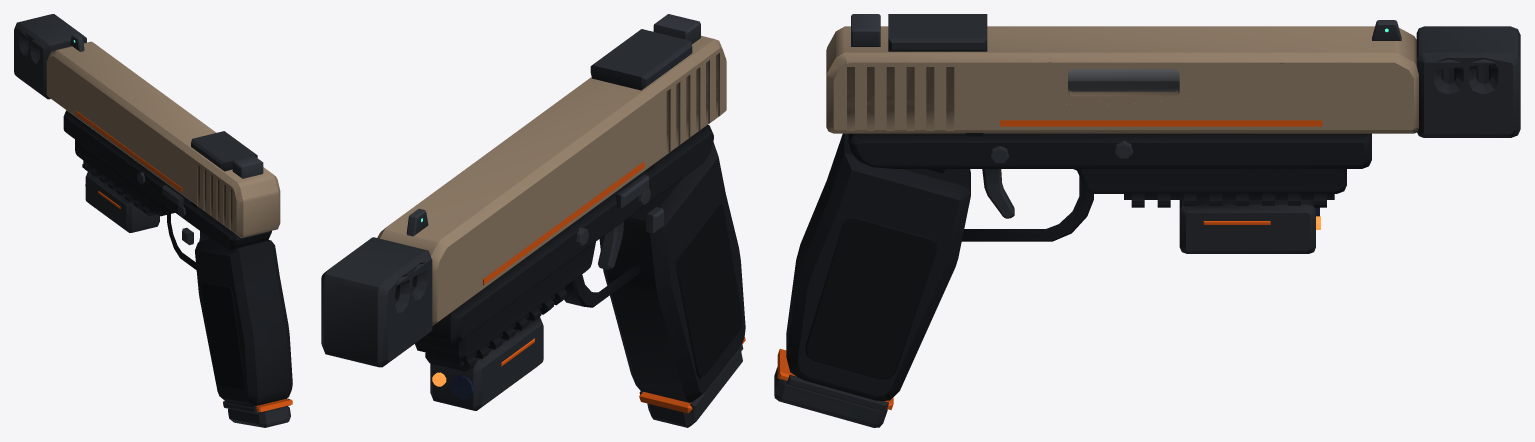
File: talon-9.glb
3 renders of one model, left to right at view 1: azimuth 30°, elevation 25°; view 2: azimuth 150°, elevation 25°; view 3: azimuth 270°, elevation 25°, orthographic. The views are drawn at different scales.
Parts seen in each view (by area): view 1: bolt_frame, body_polymer, body_frame2, body_rubber, bolt_frame2, mag_frame2, bolt_steel, body_steel, bolt_accent, mag_accent; view 2: bolt_frame, body_polymer, body_frame2, body_rubber, bolt_frame2, body_steel, bolt_steel, mag_frame2, bolt_accent, mag_accent, body_lens; view 3: bolt_frame, body_polymer, body_frame2, body_rubber, bolt_frame2, bolt_bolt, mag_frame2, bolt_accent, bolt_steel, body_steel.
Part boxes in pixels (<box>): bolt_frame: <box>46,41,280,237</box>; body_polymer: <box>63,110,292,406</box>; body_frame2: <box>14,14,290,413</box>; body_rubber: <box>201,282,245,390</box>; bolt_frame2: <box>191,131,257,207</box>; mag_frame2: <box>228,406,290,427</box>; bolt_steel: <box>70,33,263,178</box>; body_steel: <box>137,172,210,245</box>; bolt_accent: <box>76,111,182,191</box>; mag_accent: <box>223,399,292,411</box>; bolt_frame: <box>377,35,726,325</box>; body_polymer: <box>415,125,745,402</box>; body_frame2: <box>321,237,743,412</box>; body_rubber: <box>676,203,742,378</box>; bolt_frame2: <box>590,29,692,172</box>; body_steel: <box>576,174,663,270</box>; bolt_steel: <box>406,14,700,236</box>; mag_frame2: <box>647,352,742,427</box>; bolt_accent: <box>483,161,644,285</box>; mag_accent: <box>639,337,745,413</box>; body_lens: <box>450,375,474,399</box>; bolt_frame: <box>826,26,1418,133</box>; body_polymer: <box>786,133,1371,400</box>; body_frame2: <box>786,26,1520,411</box>; body_rubber: <box>805,217,937,379</box>; bolt_frame2: <box>888,14,987,136</box>; bolt_bolt: <box>1068,69,1179,91</box>; mag_frame2: <box>774,367,887,427</box>; bolt_accent: <box>1000,120,1322,126</box>; bolt_steel: <box>851,14,1401,46</box>; body_steel: <box>982,62,1282,218</box>.
Size of the model in its own units: 0.0355 by 0.177 by 0.301.
